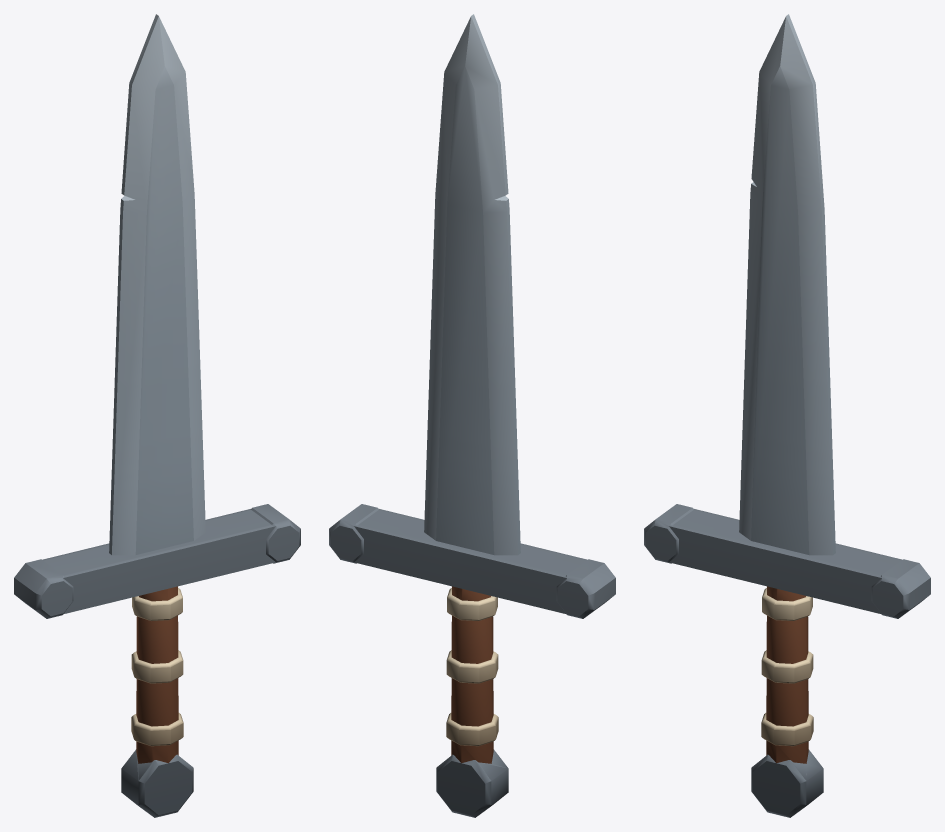
The model's file is greatsword_steel.glb.
3 renders of one model, left to right at view 1: azimuth 30°, elevation 25°; view 2: azimuth 150°, elevation 25°; view 3: azimuth 330°, elevation 25°, orthographic.
Visible parts, largest first — view 1: Item; view 2: Item; view 3: Item.
Part boxes in pixels (box(x1,y1,x2,y2)): Item: box(14, 14, 300, 817); Item: box(329, 14, 615, 817); Item: box(644, 14, 930, 817).
Bounding box in the file's own units: 0.8893 × 2.54 × 0.1571.
2 materials, 2 textured.
